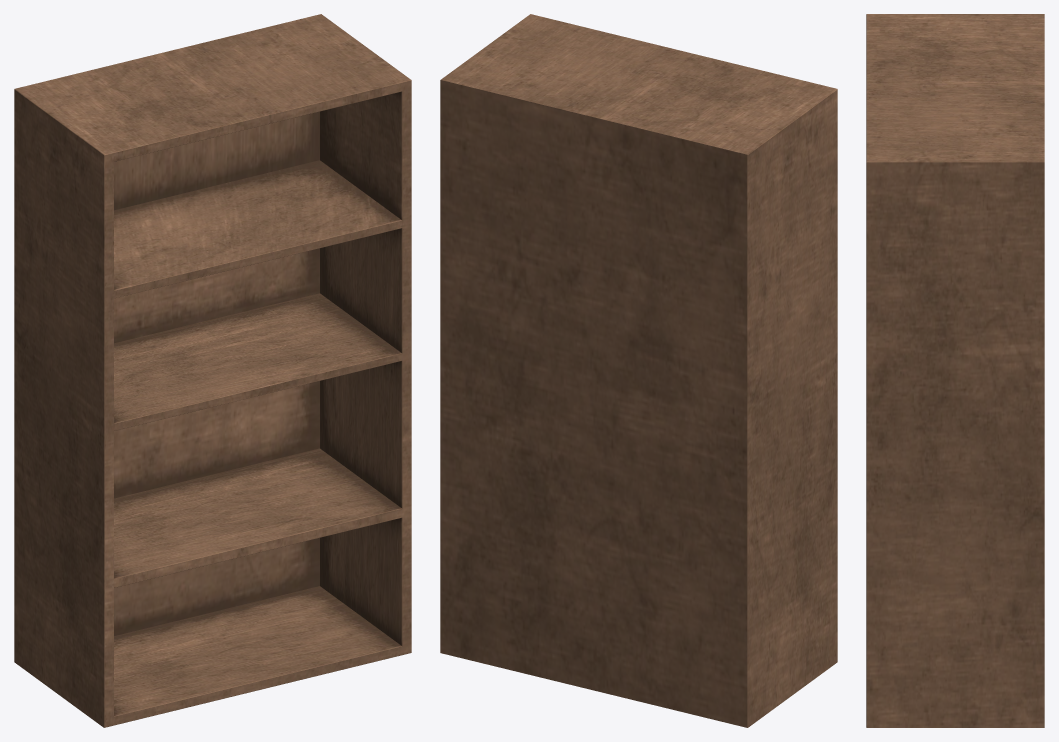
3 views of the same model, side by side, from view 1: azimuth 30°, elevation 25°; view 2: azimuth 150°, elevation 25°; view 3: azimuth 270°, elevation 25° (orthographic).
Parts seen in each view (by area): view 1: Object_2; view 2: Object_2; view 3: Object_2.
Part boxes in pixels (x1,y1,x2,y2): Object_2: [14, 14, 411, 727]; Object_2: [440, 14, 837, 727]; Object_2: [866, 14, 1044, 727].
Size of the model in its own units: 119 by 213 by 60.65.
1 material, 1 textured.
